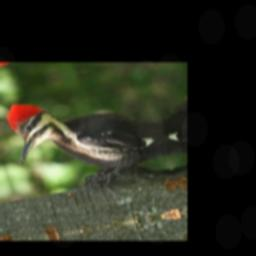Woodpecker: (0, 82, 173, 200)
